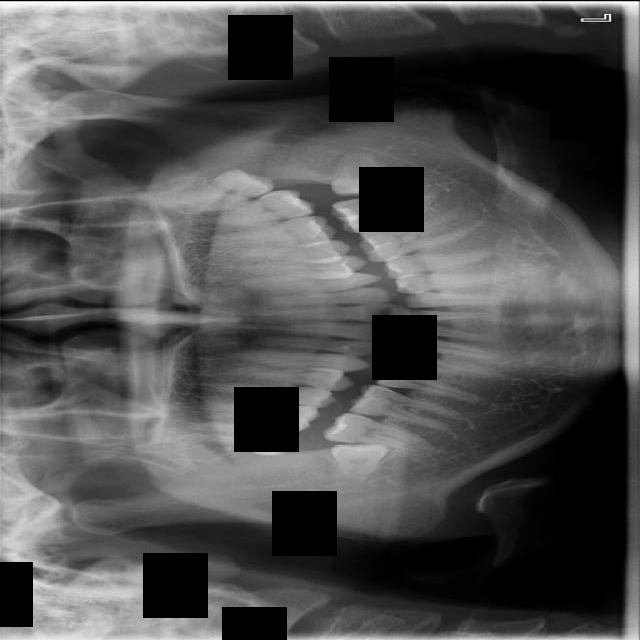73: (596, 62, 600, 74)
BioHorizons Implant: (186, 185, 318, 231)
BioLife Implant: (159, 155, 276, 227)
Biomet 3i Implant: (329, 149, 394, 198)
Blue Sky Bio Implant: (328, 182, 438, 238)
Caries: (178, 415, 302, 459)
Implant: (323, 408, 430, 454)
Keystone Dental Implant: (331, 442, 388, 477)
